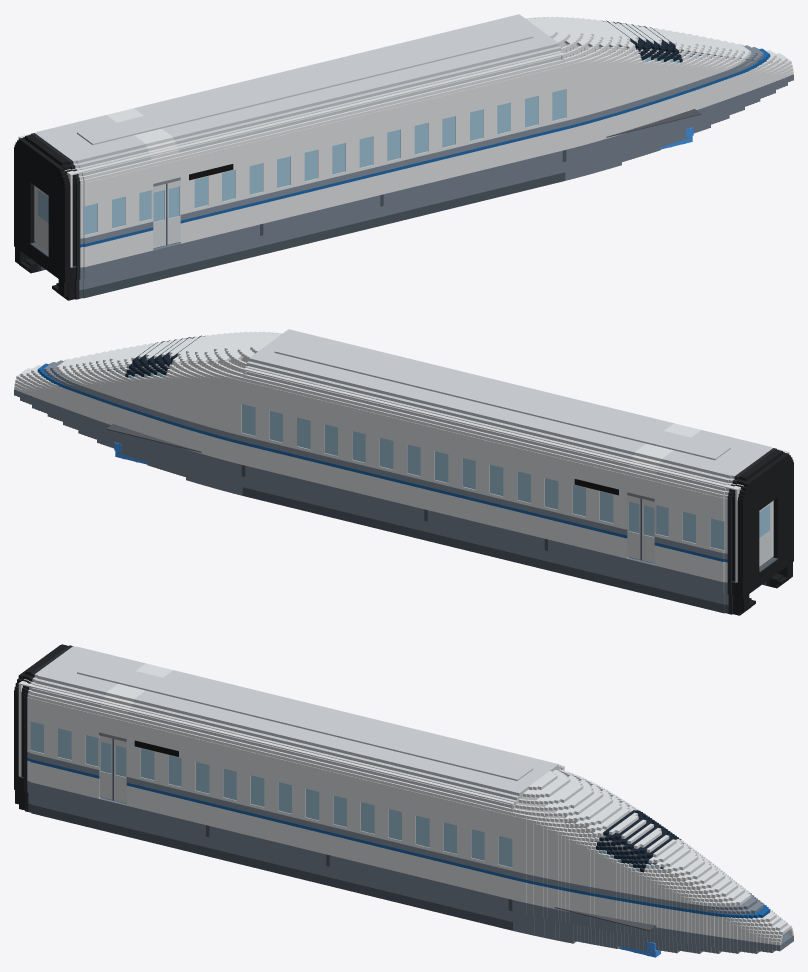
File: crrc600_front.obj
The picture shows the model from 3 angles, top to bottom: view 1: azimuth 30°, elevation 25°; view 2: azimuth 150°, elevation 25°; view 3: azimuth 330°, elevation 25°; orthographic projection.
Visible parts, largest first — view 1: SHELL, SHELL_roof, SHELL_diaphragm, SHELL_ceiling, EXTERNAL_DOOR_3_CG_DR1_TOGGLE_TL_-0.49_X, EXTERNAL_DOOR_4_CG_DR1_TOGGLE_TL_0.49_X, CONNECTING_DOOR_1_CG_CR_TOGGLE_TL_0.98_Z; view 2: SHELL, SHELL_roof, SHELL_diaphragm, SHELL_ceiling, EXTERNAL_DOOR_6_CG_DL1_TOGGLE_TL_-0.49_X, EXTERNAL_DOOR_7_CG_DL1_TOGGLE_TL_0.49_X, CONNECTING_DOOR_1_CG_CR_TOGGLE_TL_0.98_Z; view 3: SHELL, SHELL_roof, SHELL_ceiling, EXTERNAL_DOOR_3_CG_DR1_TOGGLE_TL_-0.49_X, EXTERNAL_DOOR_4_CG_DR1_TOGGLE_TL_0.49_X, SHELL_diaphragm.
Part boxes in pixels (x1=…): SHELL: x1=19, y1=14, x2=793, y2=300; SHELL_roof: x1=77, y1=25, x2=533, y2=145; SHELL_diaphragm: x1=14, y1=138, x2=68, y2=297; SHELL_ceiling: x1=21, y1=51, x2=562, y2=174; EXTERNAL_DOOR_3_CG_DR1_TOGGLE_TL_-0.49_X: x1=151, y1=183, x2=167, y2=248; EXTERNAL_DOOR_4_CG_DR1_TOGGLE_TL_0.49_X: x1=167, y1=180, x2=180, y2=244; CONNECTING_DOOR_1_CG_CR_TOGGLE_TL_0.98_Z: x1=36, y1=187, x2=48, y2=251; SHELL: x1=14, y1=329, x2=788, y2=615; SHELL_roof: x1=274, y1=340, x2=730, y2=460; SHELL_diaphragm: x1=739, y1=453, x2=793, y2=612; SHELL_ceiling: x1=245, y1=366, x2=786, y2=489; EXTERNAL_DOOR_6_CG_DL1_TOGGLE_TL_-0.49_X: x1=640, y1=498, x2=656, y2=563; EXTERNAL_DOOR_7_CG_DL1_TOGGLE_TL_0.49_X: x1=627, y1=495, x2=640, y2=559; CONNECTING_DOOR_1_CG_CR_TOGGLE_TL_0.98_Z: x1=759, y1=502, x2=771, y2=566; SHELL: x1=18, y1=644, x2=793, y2=953; SHELL_roof: x1=77, y1=660, x2=533, y2=780; SHELL_ceiling: x1=20, y1=679, x2=561, y2=804; EXTERNAL_DOOR_3_CG_DR1_TOGGLE_TL_-0.49_X: x1=98, y1=735, x2=113, y2=800; EXTERNAL_DOOR_4_CG_DR1_TOGGLE_TL_0.49_X: x1=113, y1=739, x2=126, y2=803; SHELL_diaphragm: x1=14, y1=645, x2=60, y2=804.
Size of the model in its own units: 27.16 by 4.67 by 3.42.
Materials: 1 (1 with a texture image).
